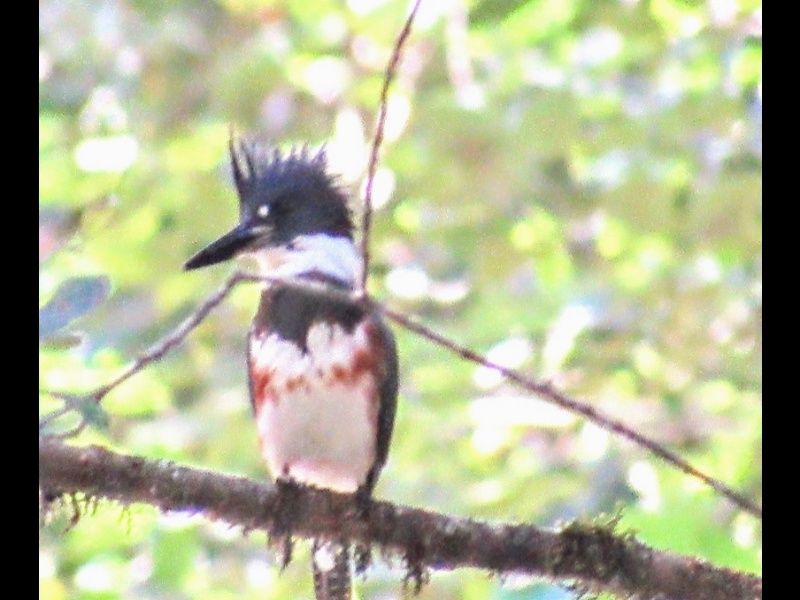kingfisher: (180, 124, 402, 597)
